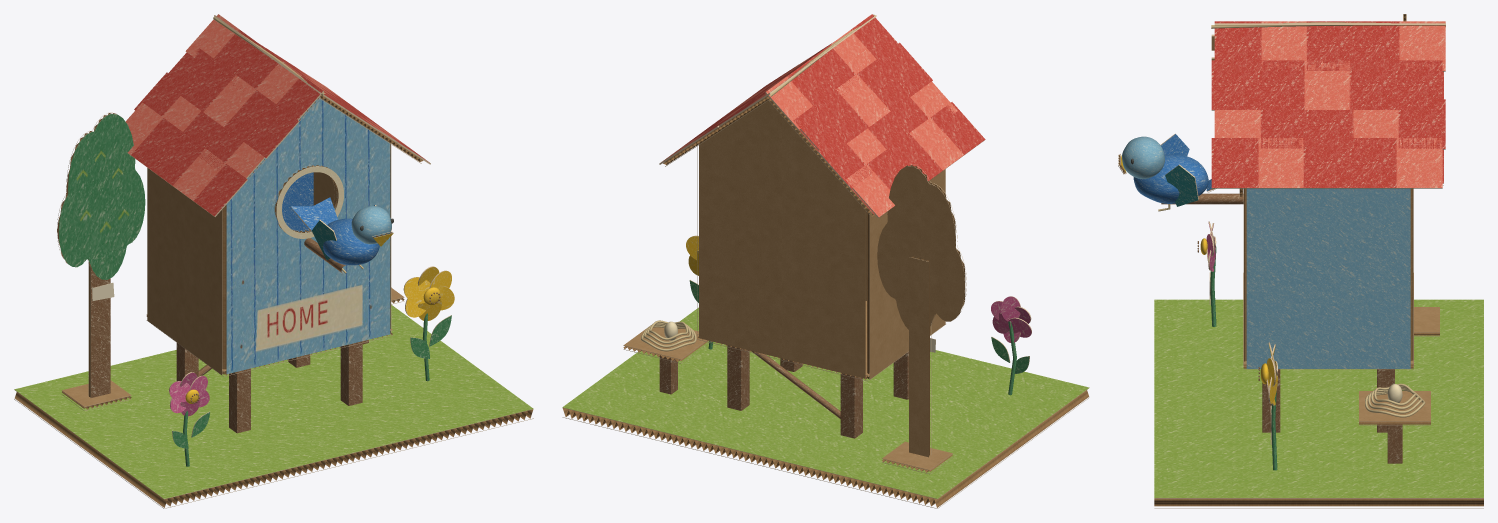
Rendered from 13_forest_birdhouse.glb.
The picture shows the model from 3 angles, left to right: view 1: azimuth 30°, elevation 25°; view 2: azimuth 150°, elevation 25°; view 3: azimuth 270°, elevation 25°; orthographic projection. The views are drawn at different scales.
Parts seen in each view (by area): view 1: lime, artwork_13_forest_birdhouse, red, kraft, coral, flute, brown, edge, blue, yellow, green, sky (+2 smaller); view 2: kraft, lime, red, coral, flute, brown, edge, pink, twine, green; view 3: lime, sky, red, coral, flute, edge, kraft, brown, blue, twine, teal, green (+1 smaller).
Part boxes in pixels (<box>): lime: <box>14,304,533,498</box>; artwork_13_forest_birdhouse: <box>58,97,390,374</box>; red: <box>131,29,429,216</box>; kraft: <box>62,168,403,406</box>; coral: <box>125,14,406,200</box>; flute: <box>14,95,532,507</box>; brown: <box>91,238,440,433</box>; edge: <box>14,15,533,508</box>; blue: <box>282,172,379,265</box>; yellow: <box>185,233,454,403</box>; green: <box>172,313,451,466</box>; sky: <box>351,206,391,244</box>; kraft: <box>624,99,964,469</box>; lime: <box>562,307,1089,498</box>; red: <box>682,14,985,214</box>; coral: <box>662,30,963,217</box>; flute: <box>562,96,1088,507</box>; brown: <box>659,345,908,438</box>; edge: <box>562,15,1089,508</box>; pink: <box>991,296,1031,342</box>; twine: <box>641,14,874,351</box>; green: <box>689,280,1029,395</box>; lime: <box>1154,299,1483,497</box>; sky: <box>1122,136,1410,368</box>; red: <box>1211,21,1445,187</box>; coral: <box>1214,21,1445,187</box>; flute: <box>1118,14,1483,506</box>; edge: <box>1118,14,1483,508</box>; kraft: <box>1211,25,1445,421</box>; brown: <box>1161,193,1402,463</box>; blue: <box>1133,134,1211,203</box>; twine: <box>1158,22,1445,417</box>; teal: <box>1165,165,1198,206</box>; green: <box>1210,247,1277,470</box>.
Bounding box in the file's own units: 0.47 × 0.4281 × 0.3664.
Materials: 18 (16 with a texture image).
